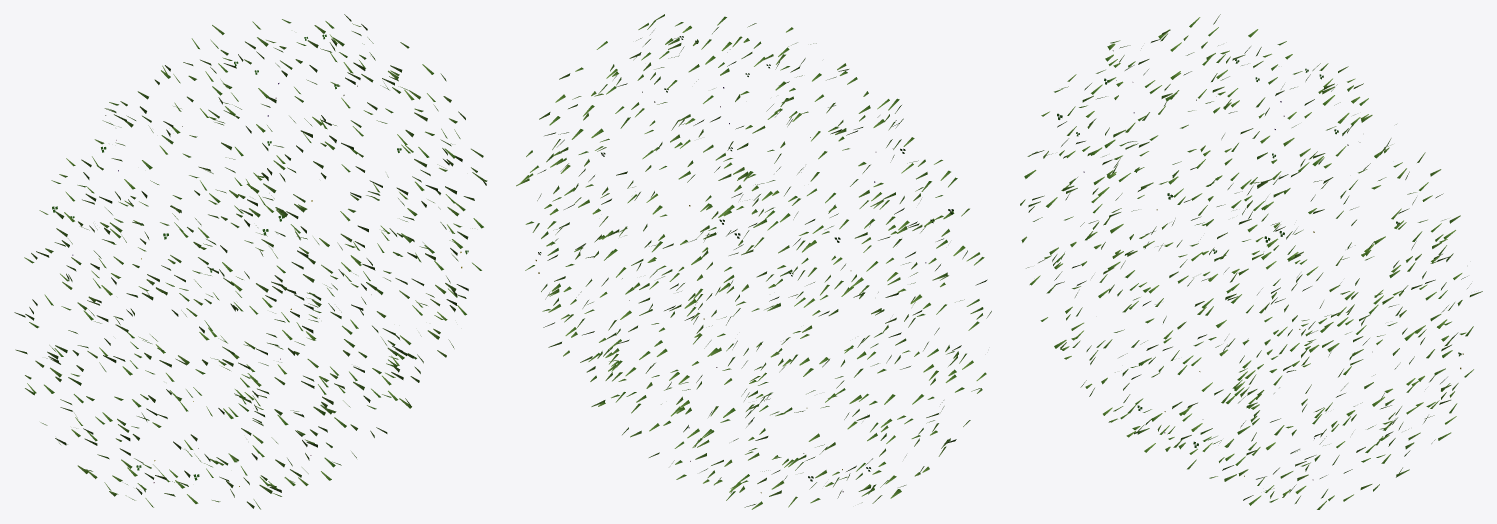
Rendered from Grass_Tile_OpenLawn.glb.
3 renders of one model, left to right at view 1: azimuth 30°, elevation 25°; view 2: azimuth 150°, elevation 25°; view 3: azimuth 330°, elevation 25°, orthographic. The views are drawn at different scales.
Parts seen in each view (by area): view 1: Grass_Tile_OpenLawn; view 2: Grass_Tile_OpenLawn; view 3: Grass_Tile_OpenLawn.
Part boxes in pixels (left/top/right/bottom): Grass_Tile_OpenLawn: left=14, top=14, right=487, bottom=509; Grass_Tile_OpenLawn: left=516, top=14, right=991, bottom=509; Grass_Tile_OpenLawn: left=1020, top=14, right=1482, bottom=509.
Bounding box in the file's own units: 2.01 × 2 × 0.0925.
